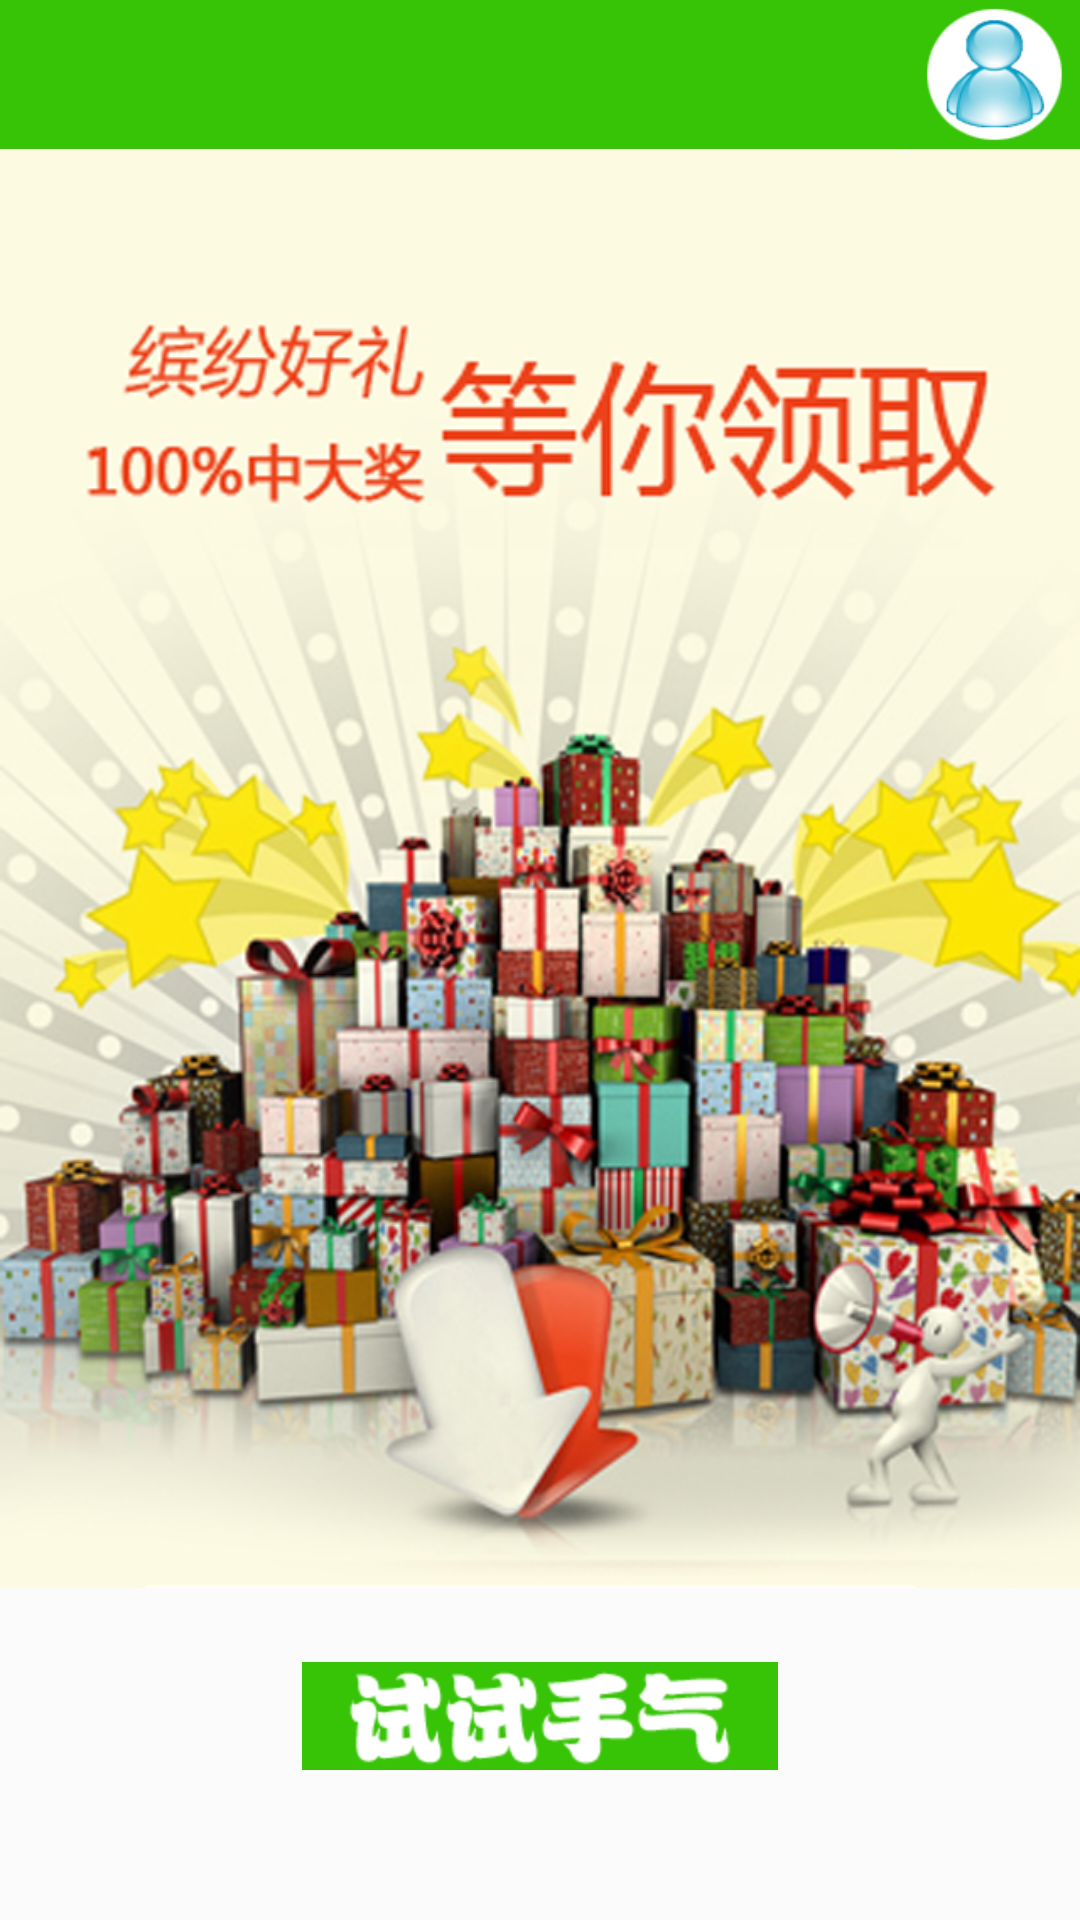

Icon bounding boxes for this 1080px x 1920px phone screenshot, format (x1, y1, x2, y2):
personal: (927, 9, 1062, 140)
